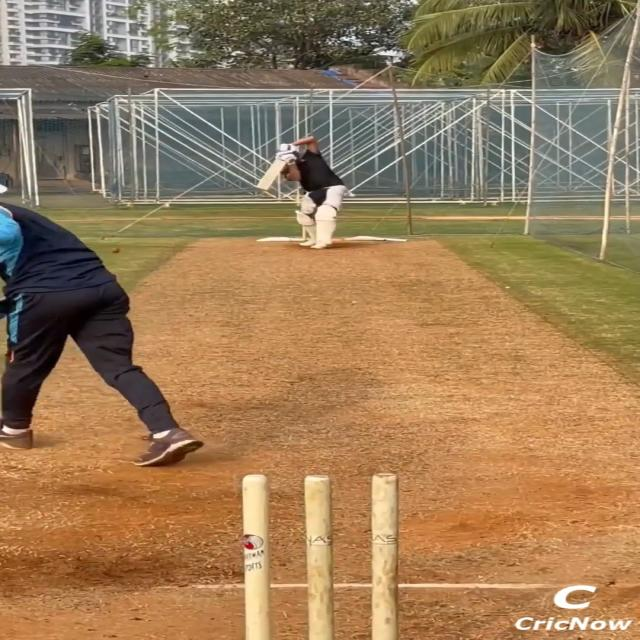stump: (239, 473, 400, 640)
